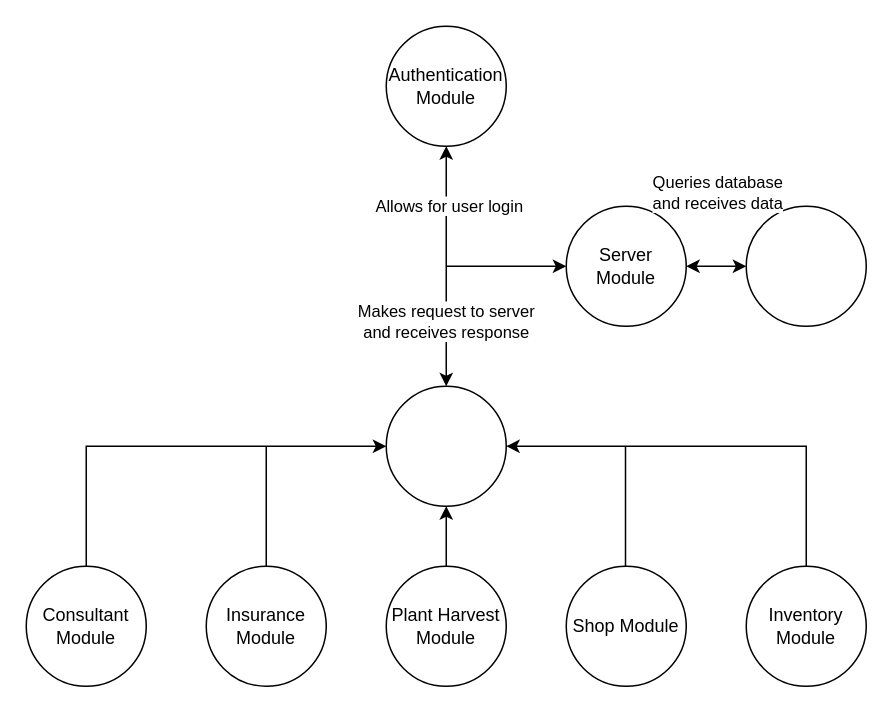
Some shapes in this 893 by 713 pixel diagram are drawn without their labels. Here are the shapes that lost their labels. From the top down, the centre of each, then its label:
pixel 805 265: Database Module
pixel 445 445: Frontend Module
